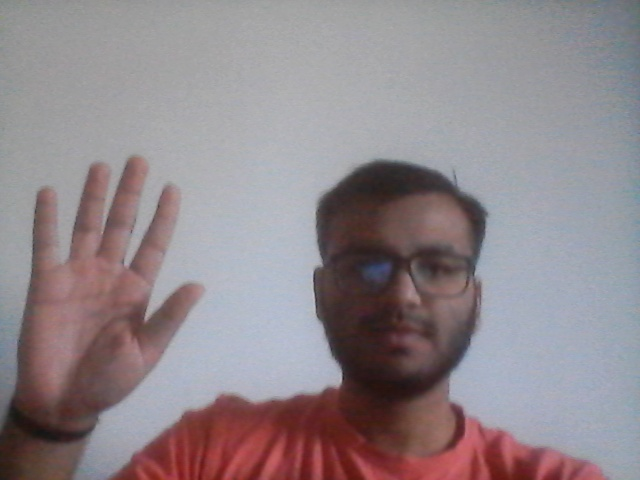Hello: (14, 142, 207, 410)
